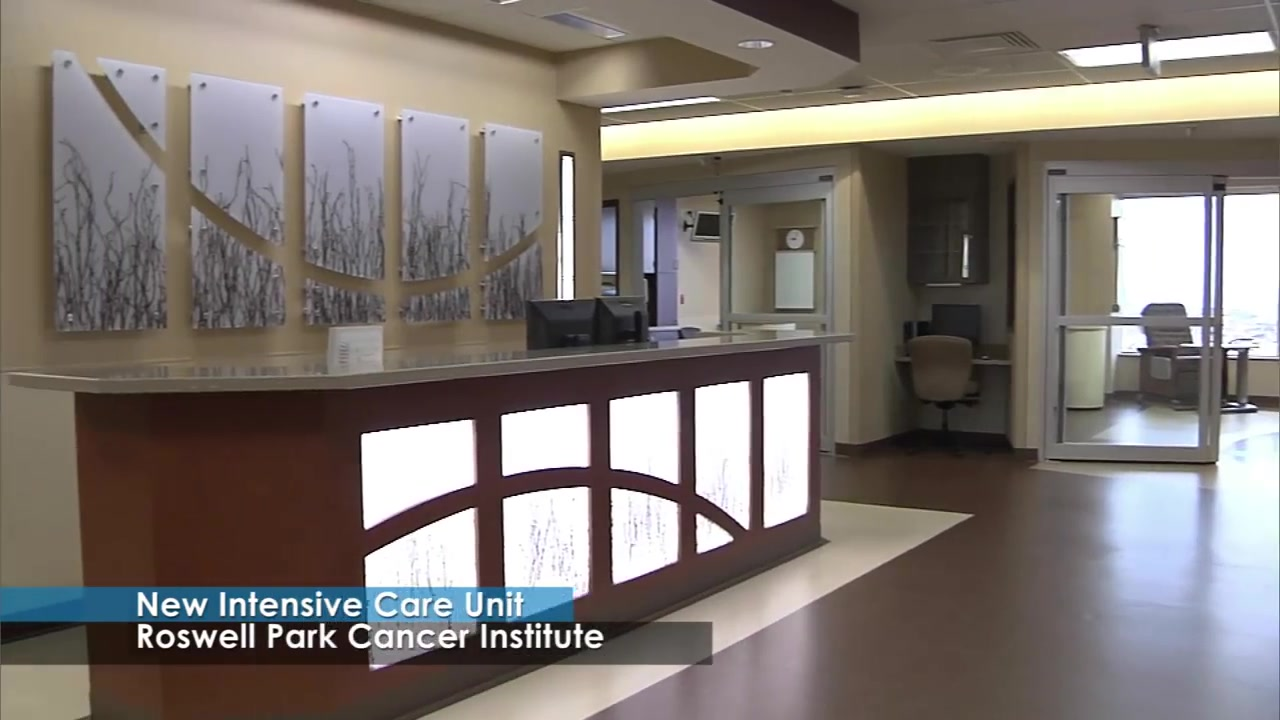bedside_monitor: (693, 211, 737, 242)
chair: (908, 334, 979, 459)
computer: (524, 298, 603, 349), (595, 296, 649, 344), (931, 303, 981, 344), (327, 325, 385, 360)
counter: (21, 328, 827, 720)
countertop: (1, 332, 856, 394), (895, 344, 1012, 367)
handle: (959, 234, 973, 279)
mouse: (980, 354, 993, 360)
overbed_table: (1184, 339, 1258, 414)
sofa: (1138, 301, 1226, 415)
